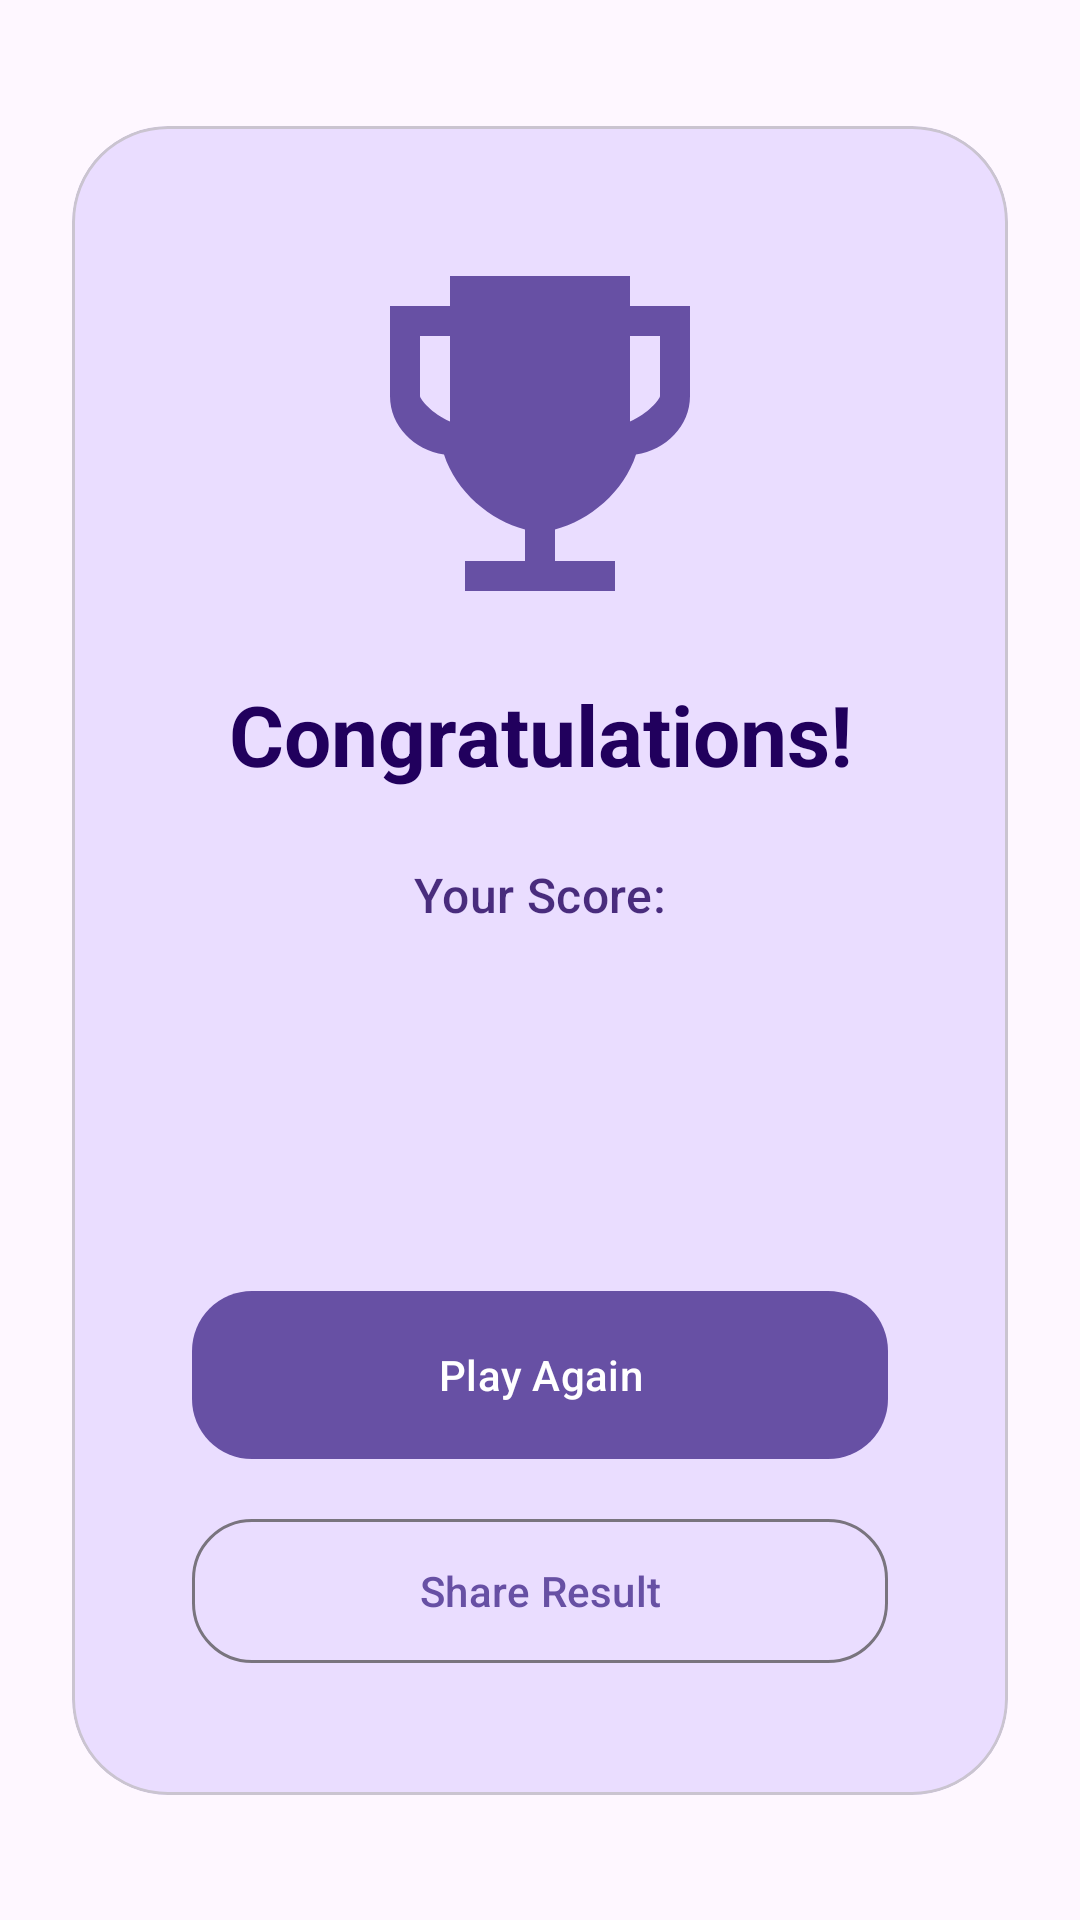

Where icons sit on this 1080 × 1920 app screen, as Rect(x1, y1, x2, y2):
trophy: Rect(390, 276, 690, 591)
